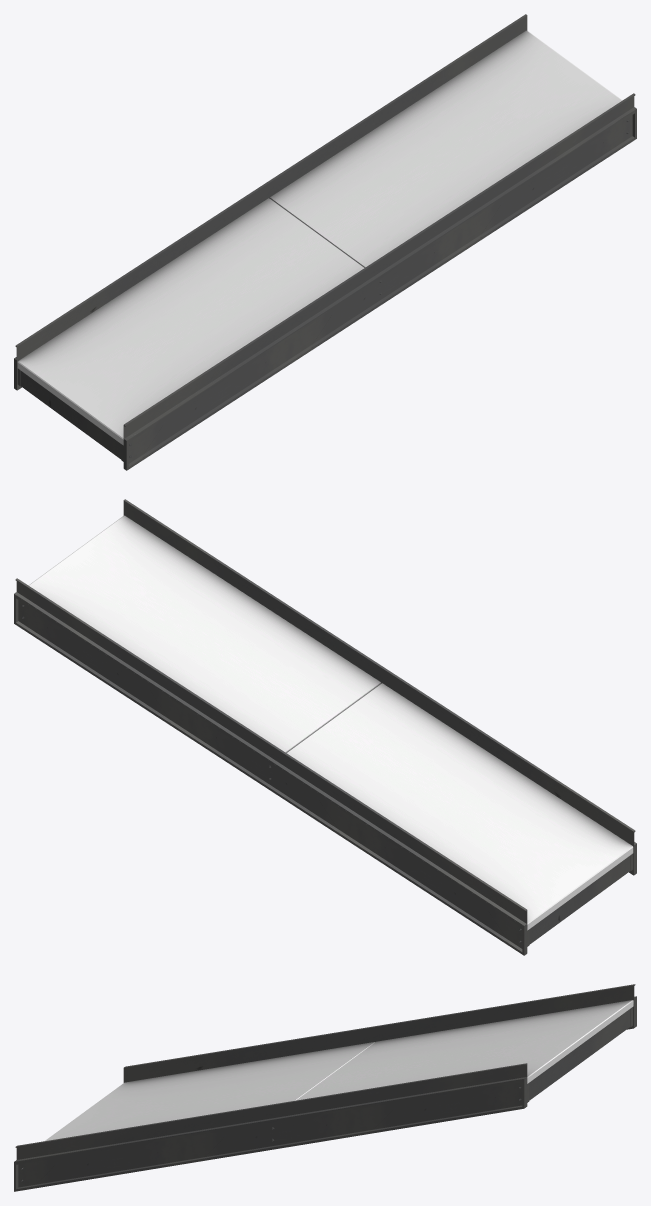
The model's file is ChuteConveyor_grand.glb.
3 renders of one model, top to bottom at view 1: azimuth 30°, elevation 25°; view 2: azimuth 150°, elevation 25°; view 3: azimuth 330°, elevation 25°, orthographic.
Visible parts, largest first — view 1: Conveyor0Base, Conveyor0Belt; view 2: Conveyor0Base, Conveyor0Belt; view 3: Conveyor0Belt, Conveyor0Base.
Part boxes in pixels (box(x1,y1,x2,y2)): Conveyor0Base: box(17, 30, 622, 445); Conveyor0Belt: box(14, 14, 636, 470); Conveyor0Base: box(28, 515, 633, 930); Conveyor0Belt: box(14, 499, 636, 955); Conveyor0Belt: box(14, 984, 636, 1191); Conveyor0Base: box(44, 1000, 633, 1141).
Size of the model in its own units: 2.25 by 1.06 by 0.8591.
2 materials, 2 textured.
